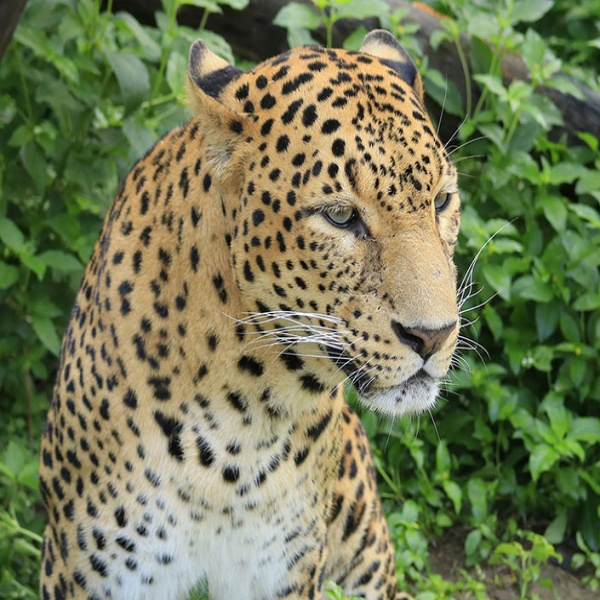Leopard: (38, 24, 482, 593)
